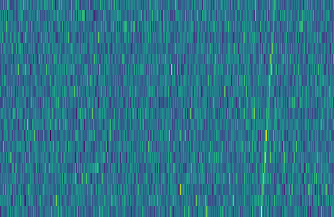signal: (258, 0, 282, 217)
